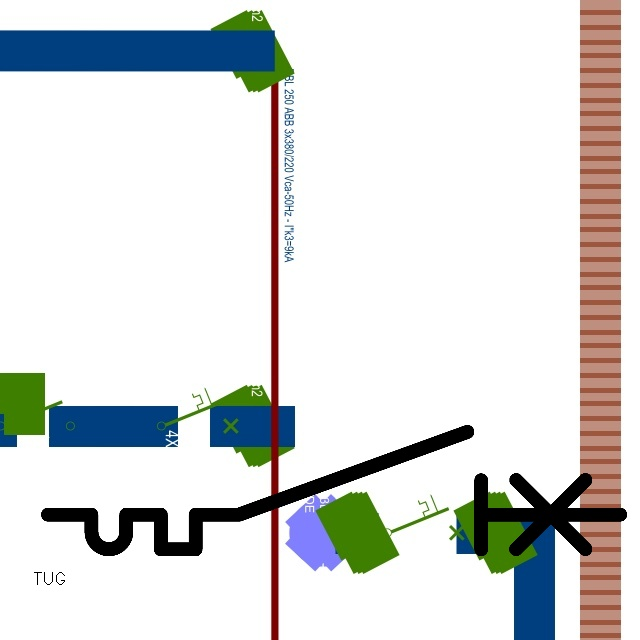interruptor_termomagnetico: (33, 417, 635, 564)
